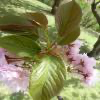Cherry leaf: (30, 53, 68, 99), (54, 0, 85, 40), (0, 35, 41, 56), (0, 14, 38, 34), (20, 10, 51, 32)
